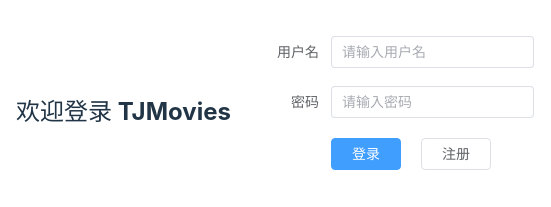
UserLogin E2E 测试 › 当用户名或密码为空时，应显示“用户名和密码不能为空”
# 不输入用户名和密码，直接点击登录
Click the button with test id "login-button": (366, 154) [331,138,401,170]
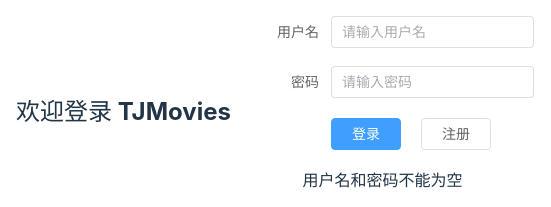
Result: the text with test id "message" reads "用户名和密码不能为空" at [302,170,462,190]
